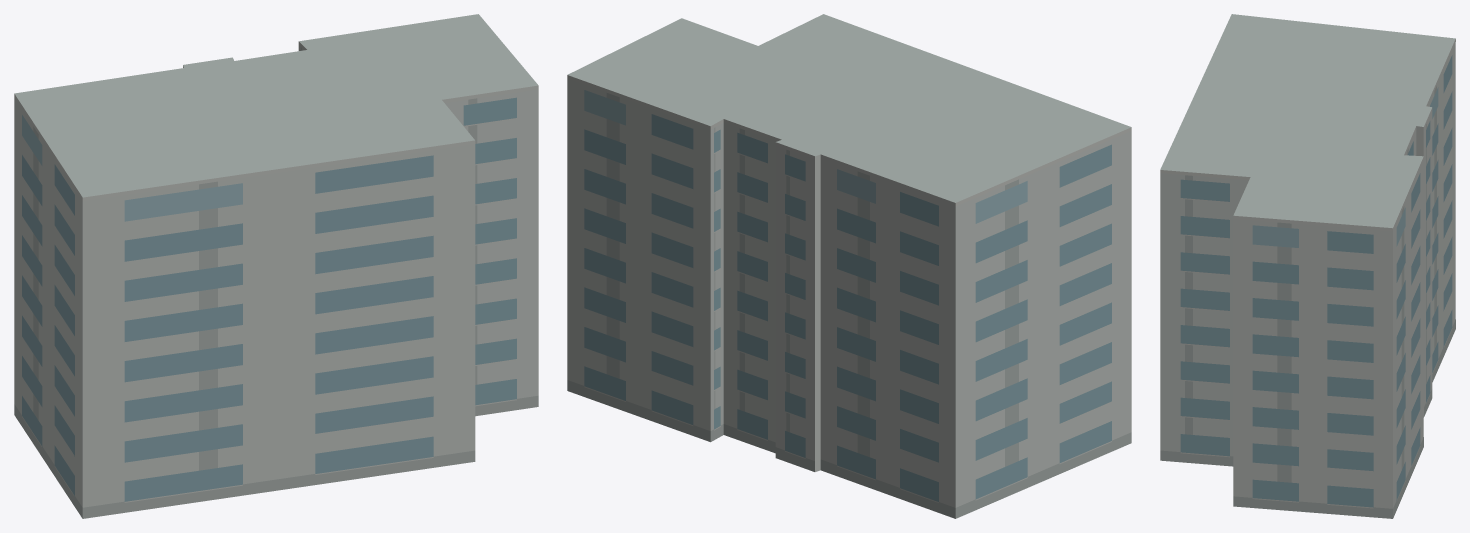
File: survey-upis-32804388.glb
3 renders of one model, left to right at view 1: azimuth 30°, elevation 25°; view 2: azimuth 150°, elevation 25°; view 3: azimuth 270°, elevation 25°, orthographic. The views are drawn at different scales.
Parts seen in each view (by area): view 1: survey-upis-32804388.tmp; view 2: survey-upis-32804388.tmp; view 3: survey-upis-32804388.tmp.
Boxes of the visible parts, <box> form: survey-upis-32804388.tmp: <box>14,14,538,518</box>; survey-upis-32804388.tmp: <box>567,14,1131,518</box>; survey-upis-32804388.tmp: <box>1160,14,1455,518</box>.
Size of the model in its own units: 33.42 by 21.15 by 19.5.
